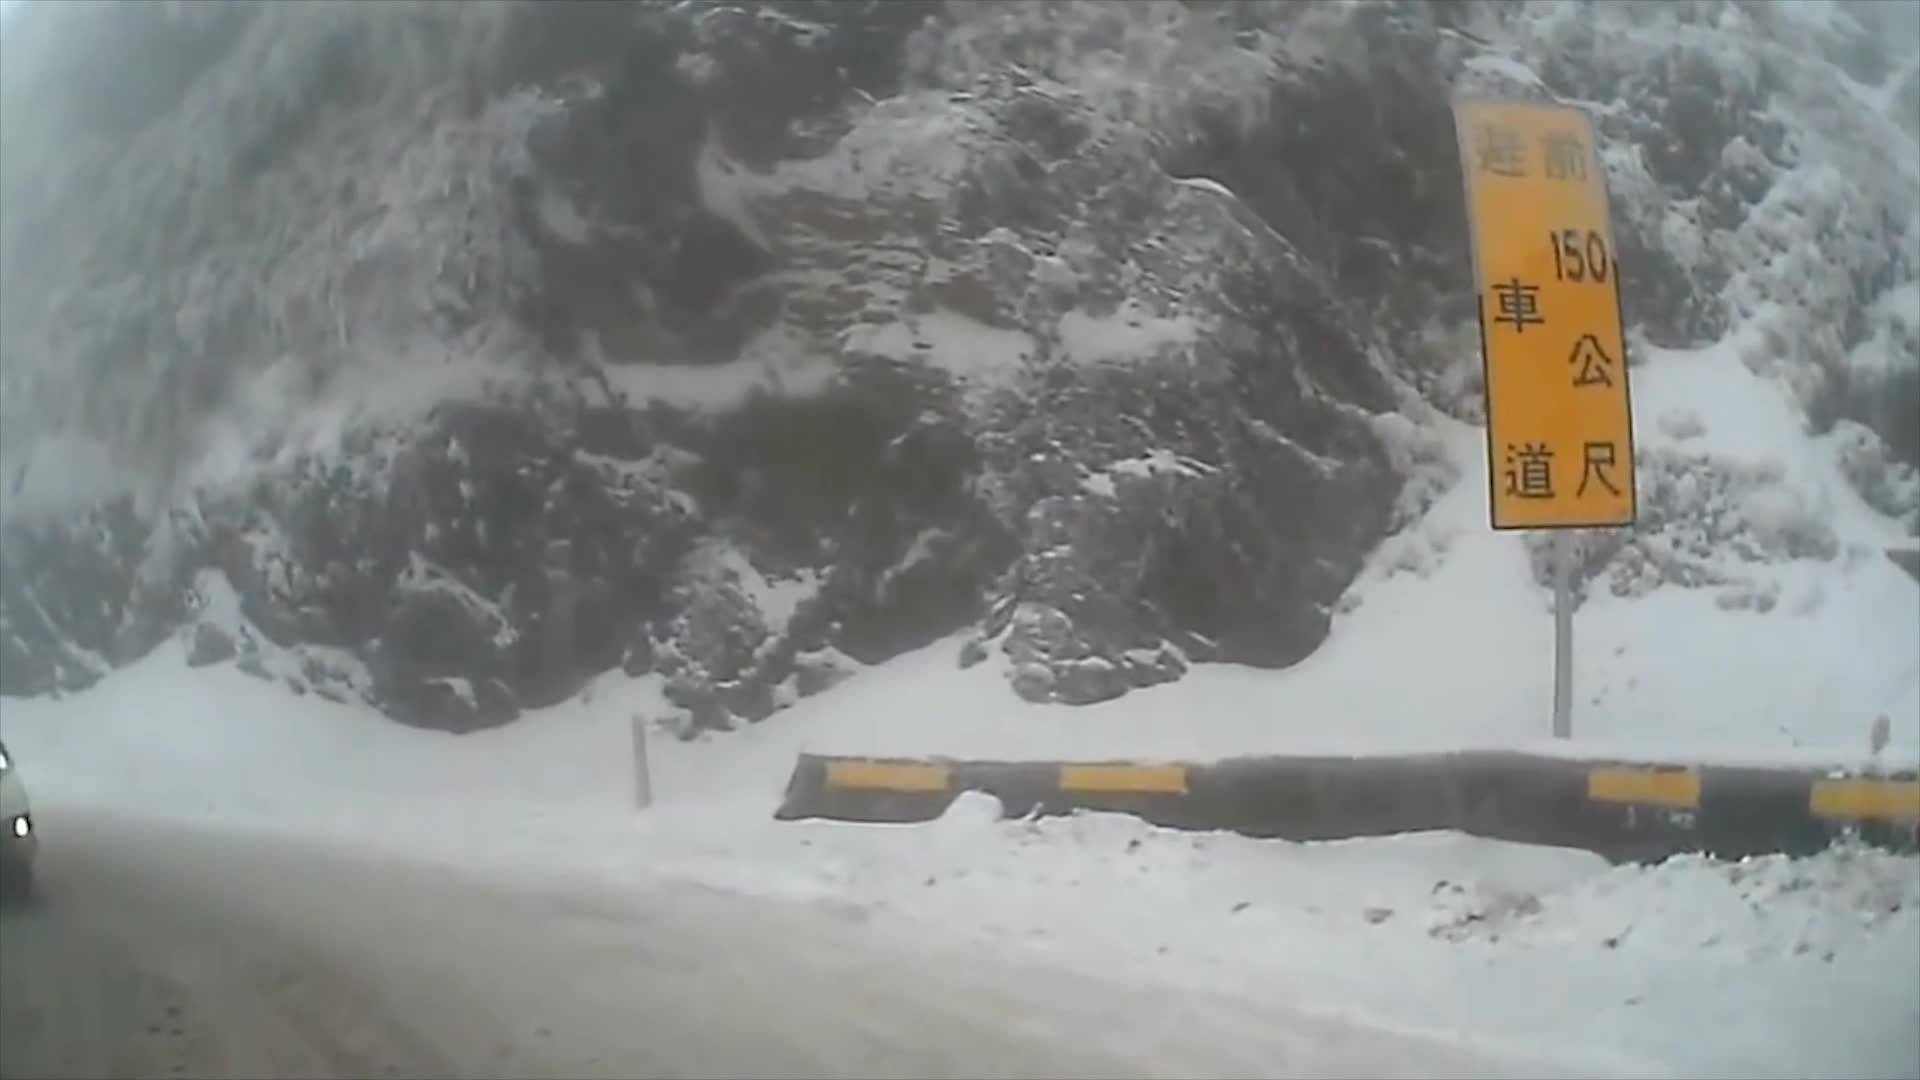vehicle: (0, 742, 37, 909)
